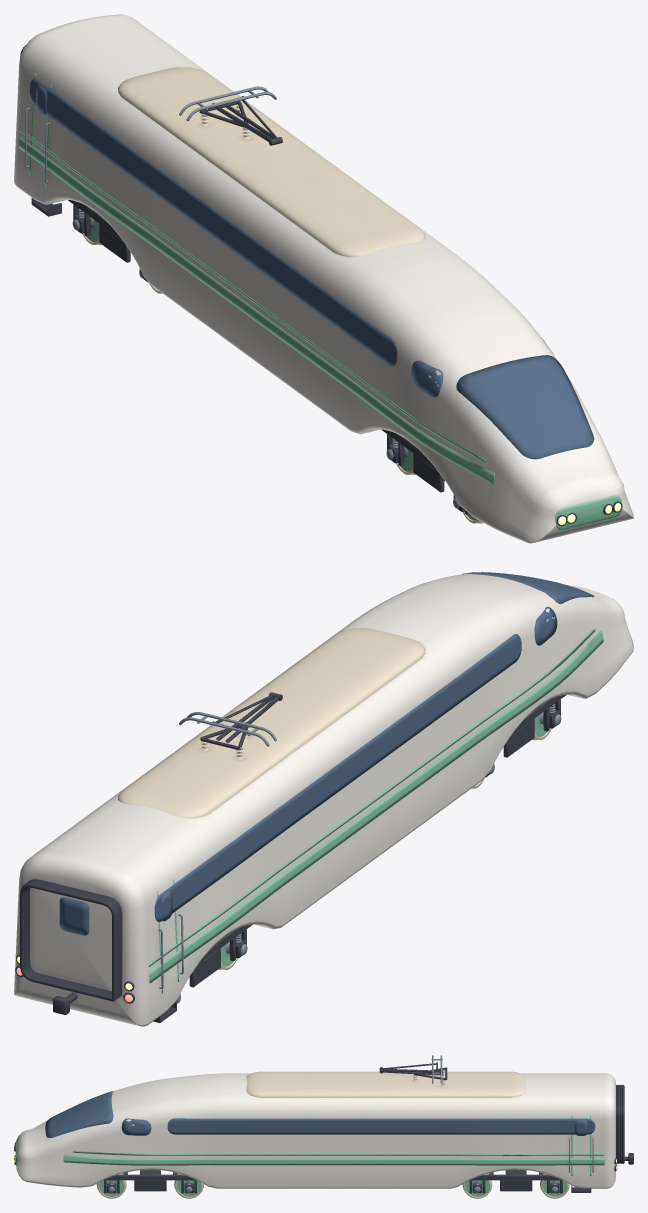
File: trains.glb
3 views of the same model, one above another, from view 1: azimuth 30°, elevation 25°; view 2: azimuth 150°, elevation 25°; view 3: azimuth 270°, elevation 25° (orthographic). The views are drawn at different scales.
Visible parts, largest first — view 1: high-speed-train_body, high-speed-train_window_glass; view 2: high-speed-train_body, high-speed-train_window_glass; view 3: high-speed-train_body, high-speed-train_window_glass.
Part boxes in pixels (<box>): high-speed-train_body: <box>14,14,633,543</box>; high-speed-train_window_glass: <box>29,79,594,459</box>; high-speed-train_body: <box>14,573,633,1026</box>; high-speed-train_window_glass: <box>59,572,593,935</box>; high-speed-train_body: <box>14,1055,633,1198</box>; high-speed-train_window_glass: <box>45,1091,595,1137</box>.
Size of the model in its own units: 3.01 by 4.39 by 20.
4 materials, 1 textured.
